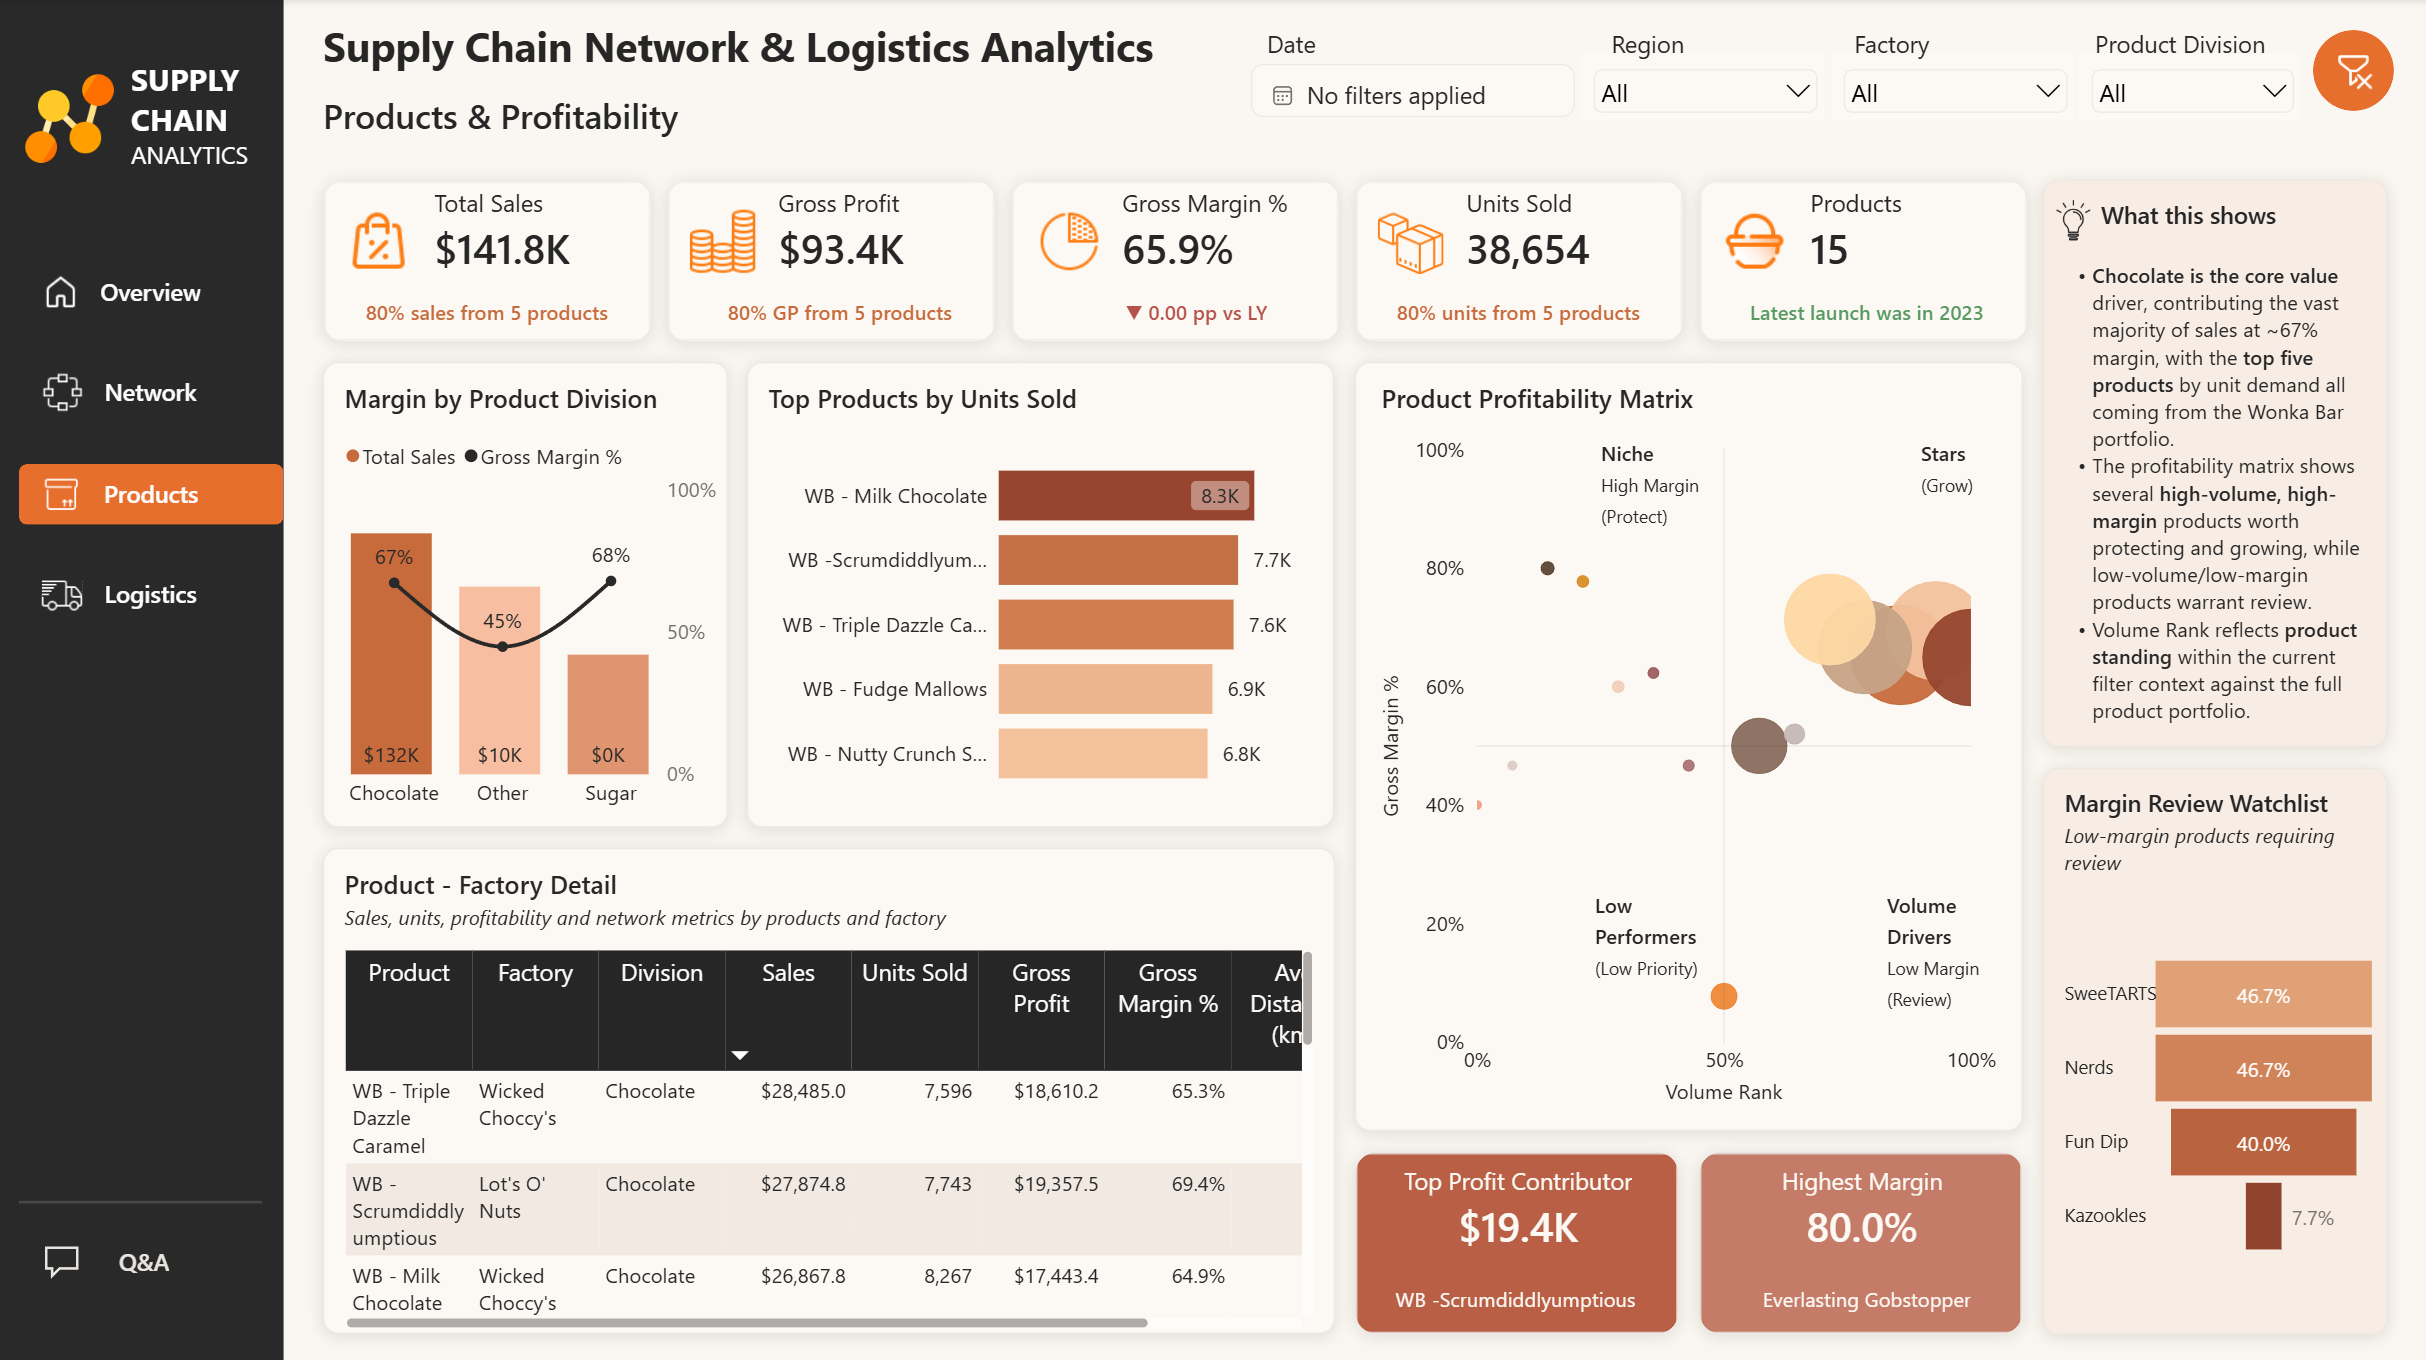

This screenshot's page, from the dashboard's own definition file:
{"tool":"powerbi","page":{"name":"Products","canvas":[1920,1080],"ordinal":2},"visuals":[{"type":"shape","box":[0,0,225,1080],"z":0},{"type":"group","id":"g1","title":"Group 3","box":[1616,144,272,448],"z":0,"group":"g6"},{"type":"scatterChart","title":"Product Profitability Matrix","fields":{"Size":["_Measures.Total Sales"],"Category":["vw_DimProduct.Short Product Name"],"X":["_Measures.Volume Percentile"],"Y":["_Measures.Gross Margin %"]},"box":[1072,288,528,608],"z":0,"group":"g8"},{"type":"textbox","box":[105,48,120,96],"z":1000},{"type":"textbox","box":[1616,144,272,448],"z":1500,"group":"g1"},{"type":"textbox","box":[256,16,672,64],"z":2000},{"type":"textbox","box":[256,74,320,48],"z":3000},{"type":"image","box":[1616,160,48,32],"z":3000,"group":"g6"},{"type":"slicer","title":"Date","fields":{"Values":["DimDate.Date"]},"box":[990,51,256,42],"z":4000,"group":"g2"},{"type":"image","box":[16,56,80,80],"z":4000},{"type":"slicer","title":"Date","fields":{"Values":["vw_FactSales.Country_Region","vw_FactSales.State_Province"]},"box":[1251,44,192,52],"z":5000,"group":"g3"},{"type":"slicer","title":"Date","fields":{"Values":["vw_DimFactory.Factory"]},"box":[1448,44,192,52],"z":5000,"group":"g4"},{"type":"slicer","title":"Date","fields":{"Values":["vw_DimProduct.Division"]},"box":[1645,44,175,52],"z":5000,"group":"g5"},{"type":"actionButton","box":[16,208,208,48],"z":5000},{"type":"actionButton","box":[16,288,208,48],"z":6000},{"type":"actionButton","box":[16,368,209,48],"z":7000},{"type":"actionButton","box":[16,448,208,48],"z":8000},{"type":"group","id":"g2","title":"Group 1","box":[990,23,256,70],"z":9000},{"type":"actionButton","box":[32,976,115,48],"z":10000},{"type":"shape","box":[16.2,944,192,16],"z":11000},{"type":"group","id":"g3","title":"Group 2","box":[1251,23,192,73],"z":12000},{"type":"group","id":"g4","title":"Group 2","box":[1448,23,192,73],"z":13000},{"type":"group","id":"g5","title":"Group 2","box":[1645,23,175,73],"z":14000},{"type":"textbox","box":[990,23,64,32],"z":14001,"group":"g2"},{"type":"actionButton","box":[1830,25,64,64],"z":15000},{"type":"textbox","box":[1256,23,96,30.4],"z":16000,"group":"g3"},{"type":"textbox","box":[1448,23,96,30.4],"z":16000,"group":"g4"},{"type":"textbox","box":[1645,23,160,32],"z":16000,"group":"g5"},{"type":"group","id":"g6","title":"Group 4","box":[1616,144,272,448],"z":16000},{"type":"tableEx","title":"Product - Factory Detail","fields":{"Values":["vw_DimProduct.Short Product Name","vw_DimFactory.Factory","vw_DimProduct.Division","_Measures.Total Sales","_Measures.Units Sold","_Measures.Gross Profit","_Measures.Gross Margin %","vw_FactSales.Actual Supply Distance KM","Avg(vw_FactSales.Shipping_Days)"]},"box":[256,672,800,384],"z":17000},{"type":"lineClusteredColumnComboChart","title":"Margin by Product Division","fields":{"Category":["vw_DimProduct.Division"],"Y2":["_Measures.Gross Margin %"],"Y":["_Measures.Total Sales"]},"box":[256,288,320,368],"z":18000},{"type":"clusteredBarChart","title":"Top Products by Units Sold","fields":{"Category":["vw_DimProduct.Short Product Name"],"Y":["_Measures.Units Sold"]},"box":[592,288,464,368],"z":19000},{"type":"group","id":"g7","title":"Group 6","box":[1072,288,528,608],"z":20000},{"type":"cardVisual","fields":{"Data":["_Measures.Total Sales"]},"box":[256,144,260,128],"z":21000},{"type":"cardVisual","fields":{"Data":["_Measures.Gross Profit"]},"box":[528,144,260,128],"z":22000},{"type":"cardVisual","fields":{"Data":["_Measures.Gross Margin %"]},"box":[800,144,260,128],"z":23000},{"type":"cardVisual","fields":{"Data":["_Measures.Units Sold"]},"box":[1072,144,260,128],"z":24000},{"type":"cardVisual","fields":{"Data":["Count(vw_FactSales.Product_ID)"]},"box":[1344,144,260,128],"z":25000},{"type":"group","id":"g8","title":"Group 5","box":[1072,288,528,608],"z":25000,"group":"g7"},{"type":"cardVisual","fields":{"Data":["_Measures.Gross Profit"]},"box":[1072,912,256,144],"z":26000},{"type":"textbox","box":[1267,346.1,83.4,83.8],"z":27000,"group":"g7"},{"type":"cardVisual","fields":{"Data":["_Measures.Gross Margin %"]},"box":[1344,912,256,144],"z":27000},{"type":"funnel","title":"Margin Review Watchlist","fields":{"Category":["vw_DimProduct.Short Product Name"],"Y":["_Measures.Gross Margin %"]},"box":[1616,608,272,448],"z":28000},{"type":"textbox","box":[1520,346.1,80,55.9],"z":28500,"group":"g7"},{"type":"textbox","box":[1492.3,703.8,104.2,109.5],"z":30001,"group":"g7"},{"type":"textbox","box":[1262,703.8,93,84.9],"z":30502,"group":"g7"}]}

Visuals, with their boxes on the page's 1920x1080 design canvas (x1, y1, x2, y2). These are canvas units, not pixel positions in the 2426x1360 screenshot, which may show the page scaled, cropped or inside an application window:
shape: bbox=[0, 0, 225, 1080]
"Group 3" group: bbox=[1616, 144, 1888, 592]
"Product Profitability Matrix" scatterChart: bbox=[1072, 288, 1600, 896]
textbox: bbox=[105, 48, 225, 144]
textbox: bbox=[1616, 144, 1888, 592]
textbox: bbox=[256, 16, 928, 80]
textbox: bbox=[256, 74, 576, 122]
image: bbox=[1616, 160, 1664, 192]
"Date" slicer: bbox=[990, 51, 1246, 93]
image: bbox=[16, 56, 96, 136]
"Date" slicer: bbox=[1251, 44, 1443, 96]
"Date" slicer: bbox=[1448, 44, 1640, 96]
"Date" slicer: bbox=[1645, 44, 1820, 96]
actionButton: bbox=[16, 208, 224, 256]
actionButton: bbox=[16, 288, 224, 336]
actionButton: bbox=[16, 368, 225, 416]
actionButton: bbox=[16, 448, 224, 496]
"Group 1" group: bbox=[990, 23, 1246, 93]
actionButton: bbox=[32, 976, 147, 1024]
shape: bbox=[16, 944, 208, 960]
"Group 2" group: bbox=[1251, 23, 1443, 96]
"Group 2" group: bbox=[1448, 23, 1640, 96]
"Group 2" group: bbox=[1645, 23, 1820, 96]
textbox: bbox=[990, 23, 1054, 55]
actionButton: bbox=[1830, 25, 1894, 89]
textbox: bbox=[1256, 23, 1352, 53]
textbox: bbox=[1448, 23, 1544, 53]
textbox: bbox=[1645, 23, 1805, 55]
"Group 4" group: bbox=[1616, 144, 1888, 592]
"Product - Factory Detail" tableEx: bbox=[256, 672, 1056, 1056]
"Margin by Product Division" lineClusteredColumnComboChart: bbox=[256, 288, 576, 656]
"Top Products by Units Sold" clusteredBarChart: bbox=[592, 288, 1056, 656]
"Group 6" group: bbox=[1072, 288, 1600, 896]
cardVisual - _Measures.Total Sales: bbox=[256, 144, 516, 272]
cardVisual - _Measures.Gross Profit: bbox=[528, 144, 788, 272]
cardVisual - _Measures.Gross Margin %: bbox=[800, 144, 1060, 272]
cardVisual - _Measures.Units Sold: bbox=[1072, 144, 1332, 272]
cardVisual - Count(vw_FactSales.Product_ID): bbox=[1344, 144, 1604, 272]
"Group 5" group: bbox=[1072, 288, 1600, 896]
cardVisual - _Measures.Gross Profit: bbox=[1072, 912, 1328, 1056]
textbox: bbox=[1267, 346, 1350, 430]
cardVisual - _Measures.Gross Margin %: bbox=[1344, 912, 1600, 1056]
"Margin Review Watchlist" funnel: bbox=[1616, 608, 1888, 1056]
textbox: bbox=[1520, 346, 1600, 402]
textbox: bbox=[1492, 704, 1596, 813]
textbox: bbox=[1262, 704, 1355, 789]
